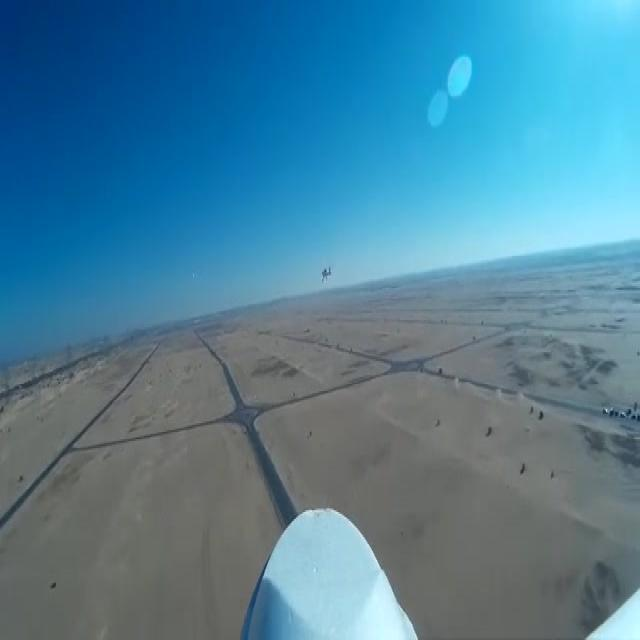iha: (318, 265, 322, 283)
